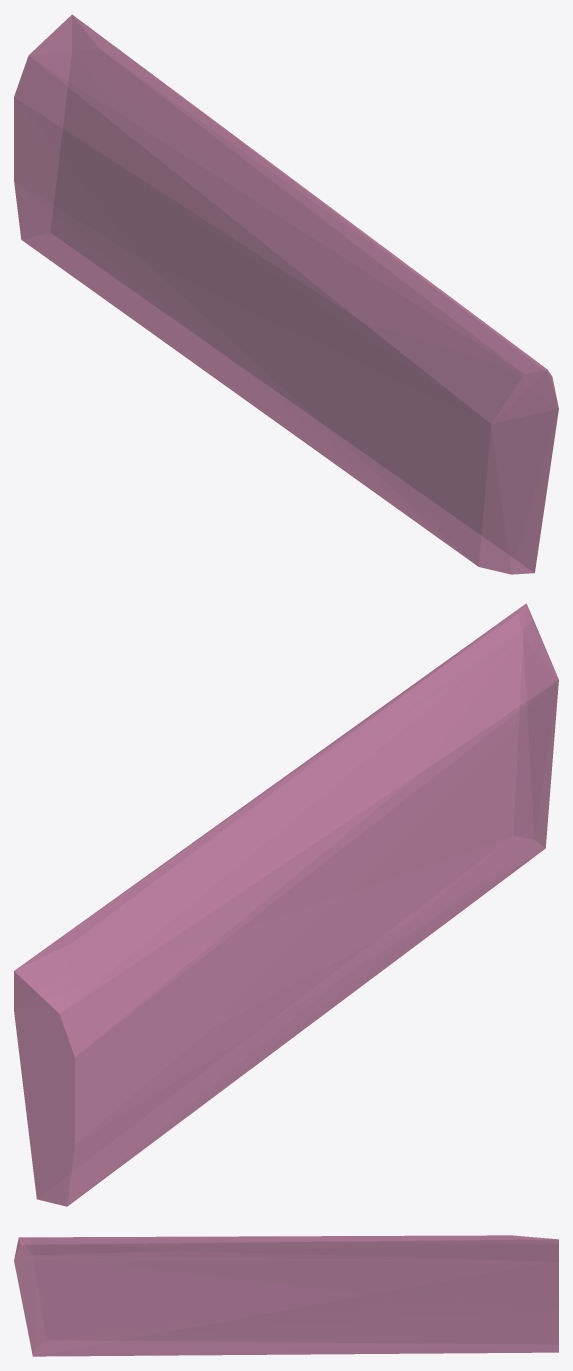
3 views of the same model, one above another, from view 1: azimuth 30°, elevation 25°; view 2: azimuth 150°, elevation 25°; view 3: azimuth 270°, elevation 25° (orthographic). The views are drawn at different scales.
Visible parts, largest first — view 1: Shape_IndexedFaceSet.037_Shape_IndexedFaceSet.8636; view 2: Shape_IndexedFaceSet.037_Shape_IndexedFaceSet.8636; view 3: Shape_IndexedFaceSet.037_Shape_IndexedFaceSet.8636.
Boxes of the visible parts, x1,y1,x2,y2 form: Shape_IndexedFaceSet.037_Shape_IndexedFaceSet.8636: (14, 14, 558, 574); Shape_IndexedFaceSet.037_Shape_IndexedFaceSet.8636: (14, 603, 558, 1206); Shape_IndexedFaceSet.037_Shape_IndexedFaceSet.8636: (14, 1235, 558, 1356).
Bounding box in the file's own units: 0.0401 × 0.1402 × 0.5811.
